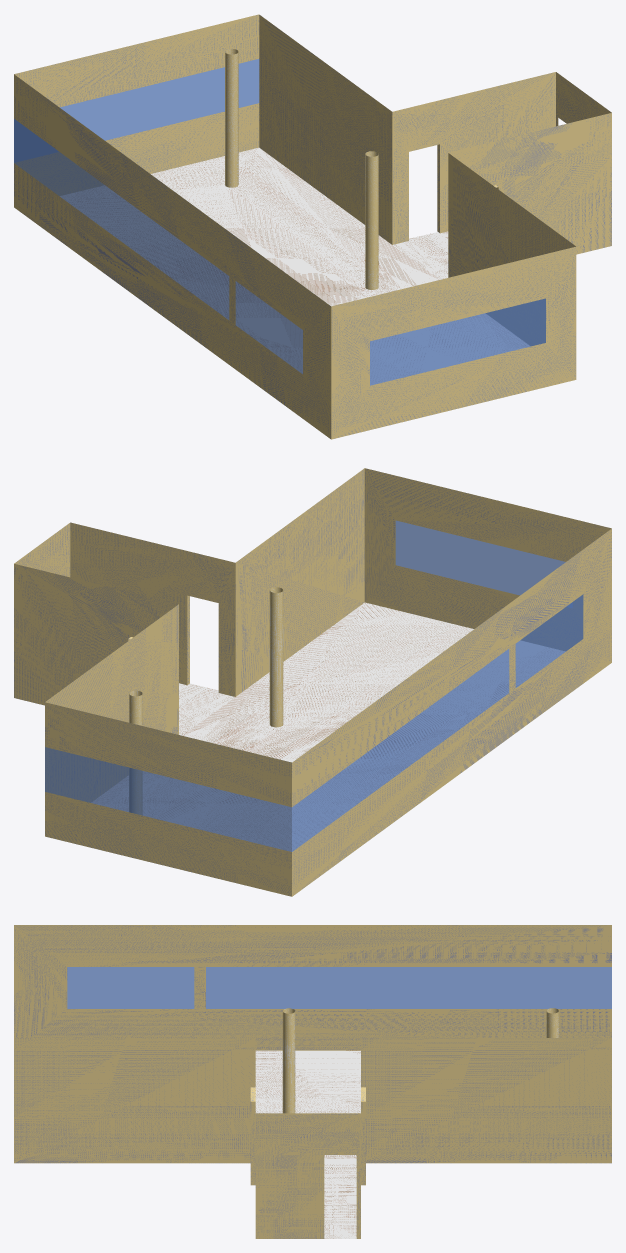
The model's file is LAB002.obj.
The picture shows the model from 3 angles, top to bottom: view 1: azimuth 30°, elevation 25°; view 2: azimuth 150°, elevation 25°; view 3: azimuth 270°, elevation 25°; orthographic projection. The views are drawn at different scales.
Visible parts, largest first — view 1: Mesh3 LAB002 Model; view 2: Mesh3 LAB002 Model; view 3: Mesh3 LAB002 Model, Mesh1 Group1 LAB002 Model.
Part boxes in pixels (bbox=[...]): Mesh3 LAB002 Model: bbox=[14, 14, 611, 439]; Mesh3 LAB002 Model: bbox=[14, 468, 611, 896]; Mesh3 LAB002 Model: bbox=[14, 925, 611, 1238]; Mesh1 Group1 LAB002 Model: bbox=[250, 1087, 255, 1185].
Size of the model in its own units: 9.63 by 3 by 12.94.
5 materials, 1 textured.
